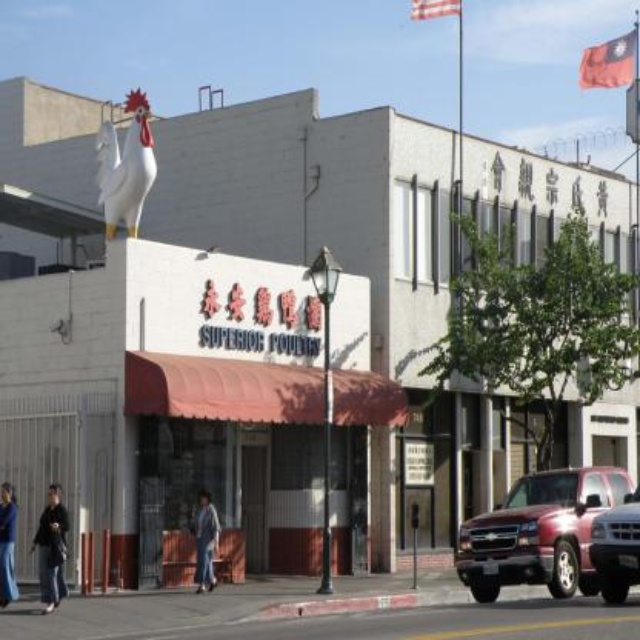Car: (459, 469, 620, 609), (591, 489, 638, 598)
